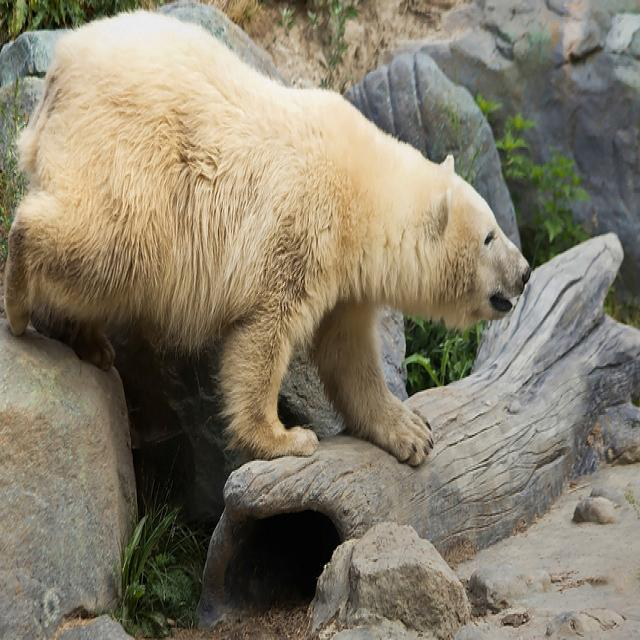Bear: (0, 6, 540, 476)
